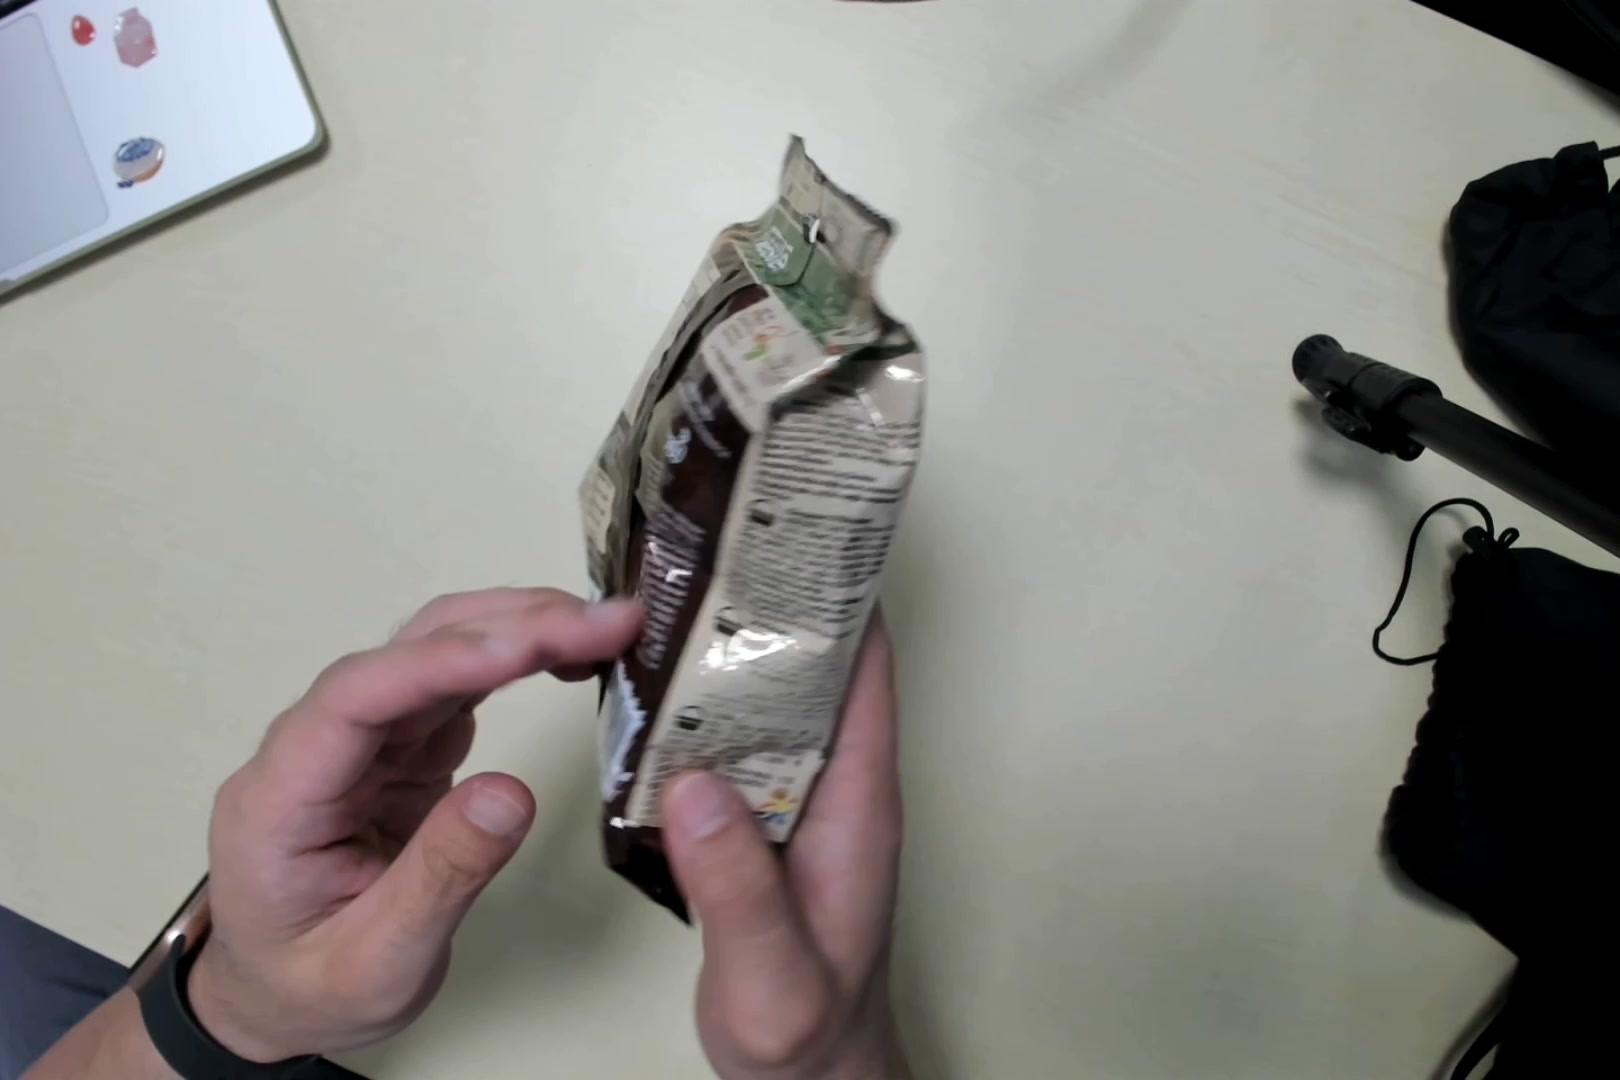BreakfastCereals_0-99g_Halal_NonHealthy: (592, 122, 920, 911)
